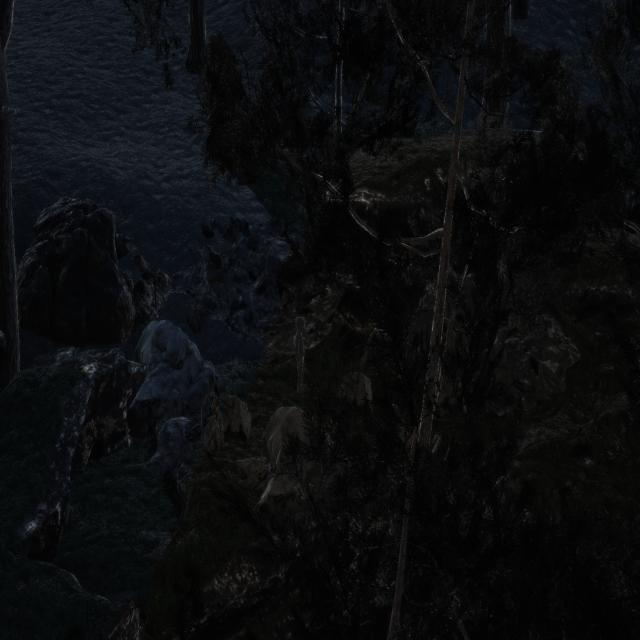Human: (282, 300, 317, 425)
